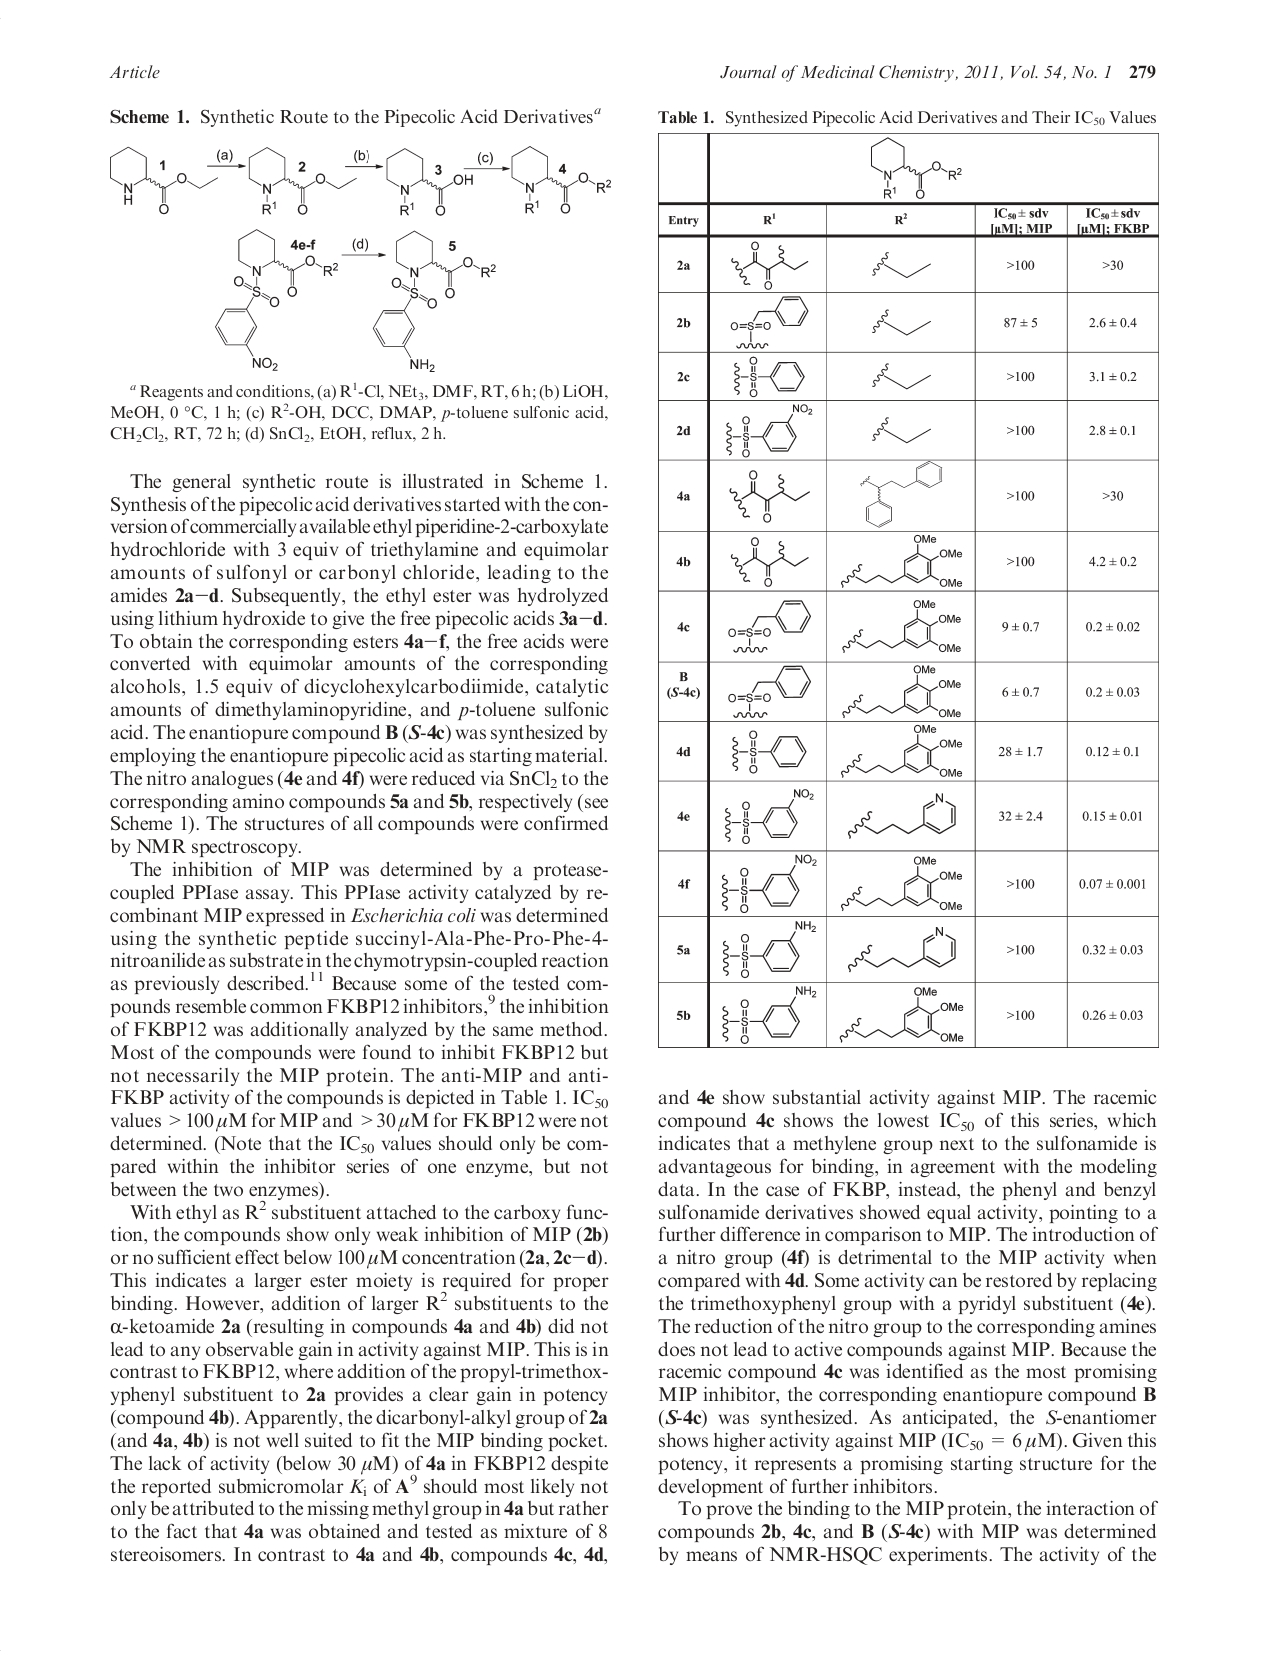exist_molecular: (213, 225, 343, 372), (371, 225, 497, 372), (245, 140, 363, 218), (509, 140, 614, 218), (106, 145, 219, 215), (840, 594, 965, 656), (838, 984, 965, 1044), (840, 532, 965, 590), (838, 722, 965, 779), (839, 664, 964, 721), (383, 141, 473, 219), (839, 856, 965, 911), (864, 133, 963, 199), (856, 457, 946, 531), (715, 985, 821, 1045), (718, 852, 818, 914), (844, 790, 963, 838), (722, 920, 819, 977), (721, 786, 815, 844), (847, 926, 959, 973), (725, 598, 815, 654), (726, 467, 813, 524), (725, 403, 815, 457), (723, 294, 811, 350), (726, 664, 813, 719), (727, 238, 813, 291), (727, 533, 810, 586), (730, 725, 813, 774), (726, 355, 806, 399), (866, 356, 938, 394), (868, 246, 938, 282), (864, 305, 935, 338), (870, 414, 936, 448)
